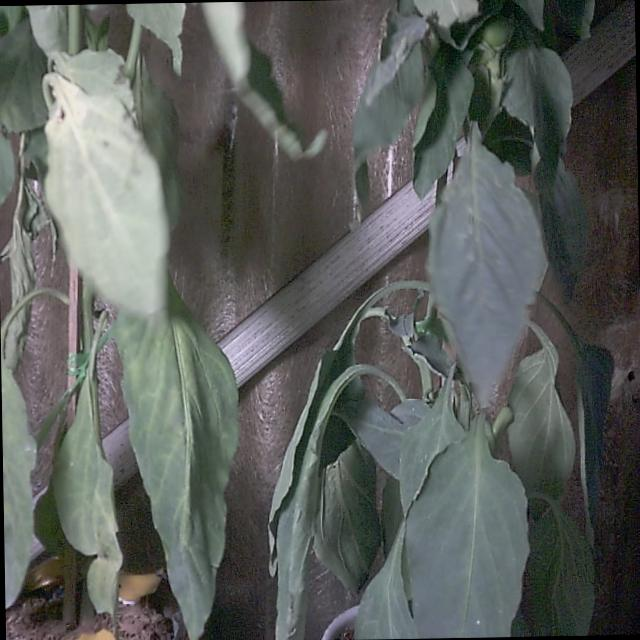Leaf: (114, 285, 237, 639), (428, 127, 545, 405), (43, 74, 168, 313), (405, 415, 528, 637), (507, 323, 574, 497)
